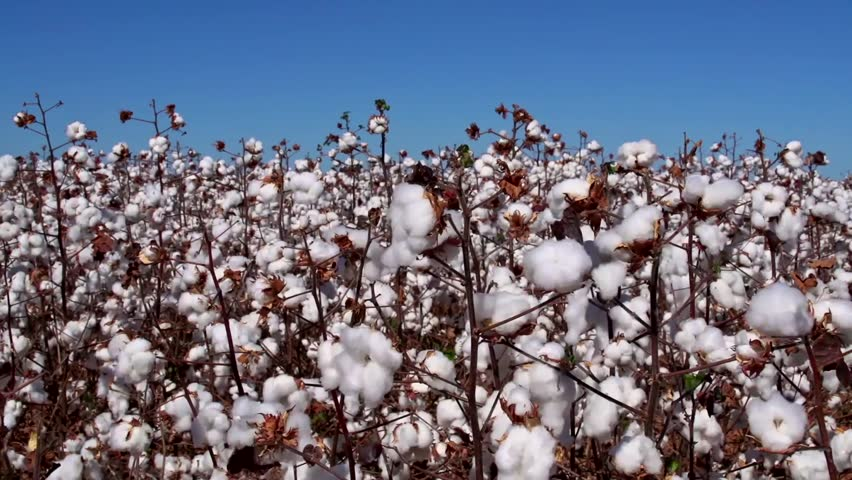cotton: (8, 85, 685, 479)
